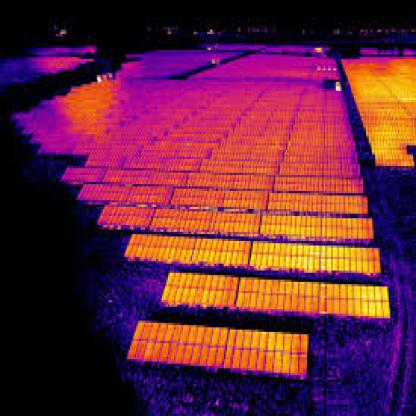Defects: (74, 86, 102, 124), (314, 43, 324, 55), (333, 82, 342, 94)
